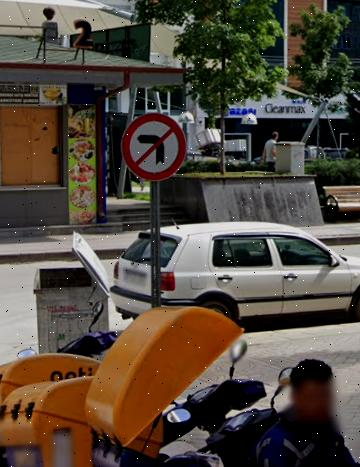leftturnsareforbidden: (120, 112, 188, 181)
